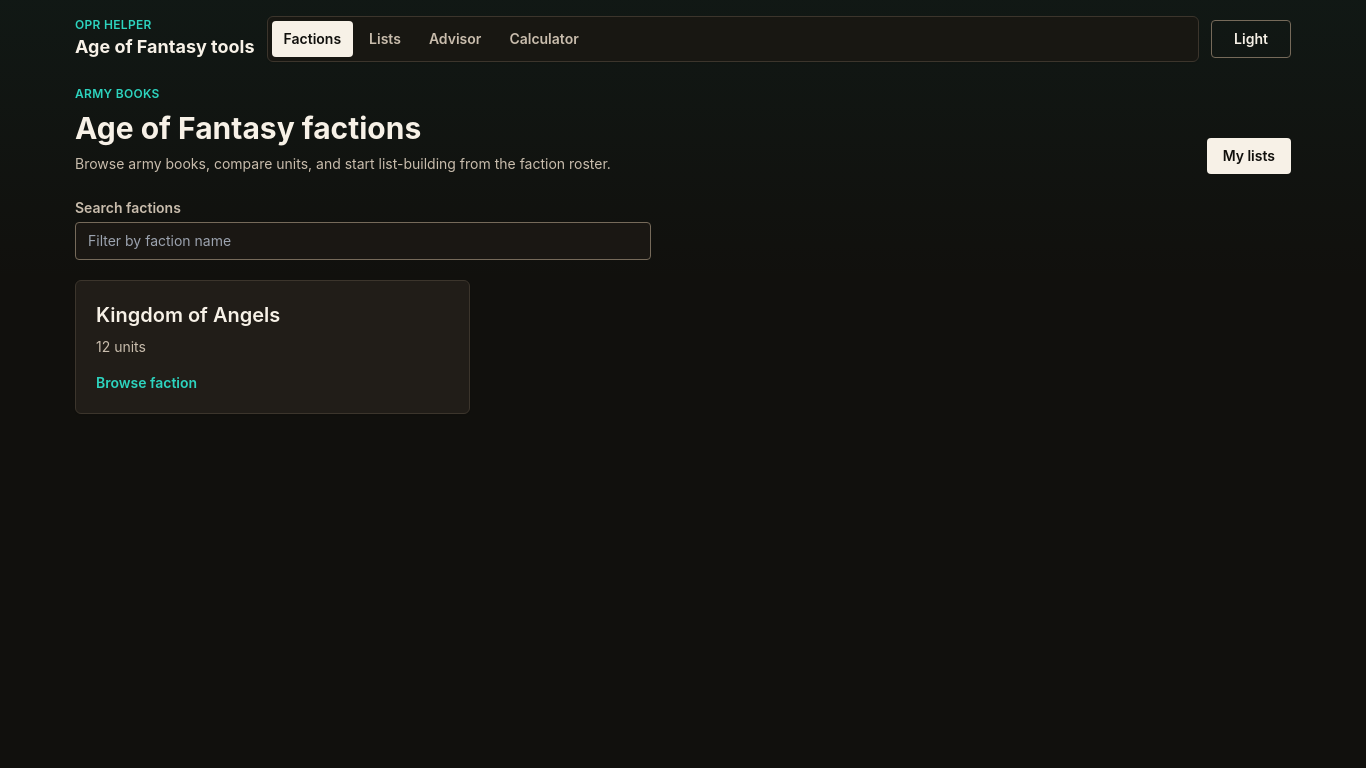
App shell › uses system dark mode, then persists a manual theme override
Click the button with aria-label "switch to light mode". click: (1251,39)
box: [1211,20,1291,58]
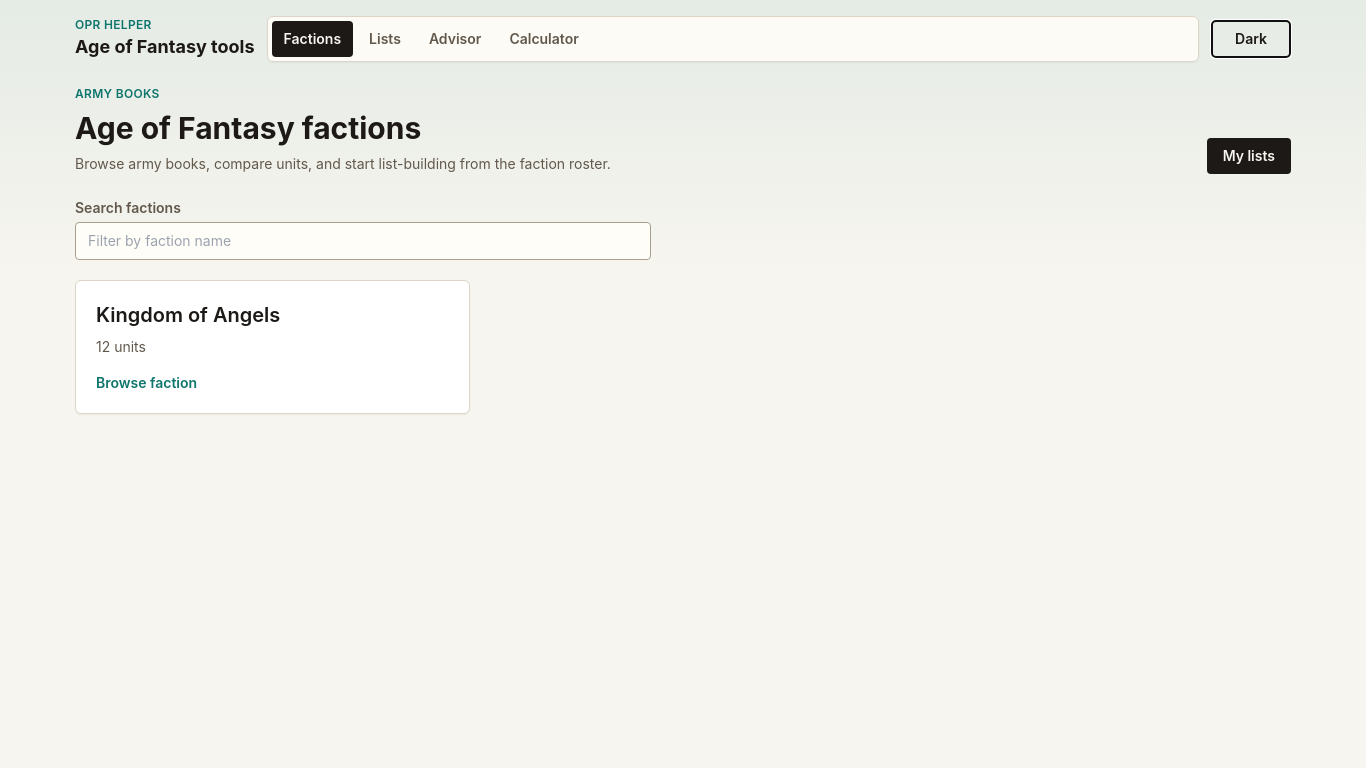
expect the button with aria-label "switch to dark mode" is shown: met, box [1211,20,1291,58]
